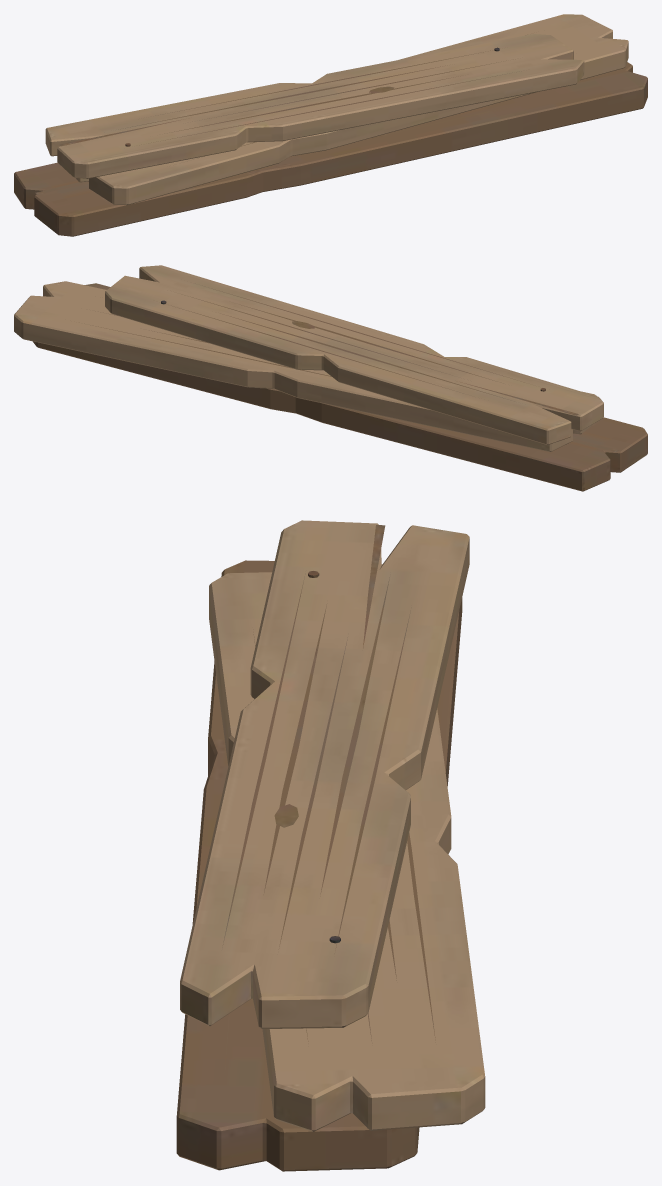
Rendered from D18_wooden_planks_v3.glb.
The picture shows the model from 3 angles, top to bottom: view 1: azimuth 30°, elevation 25°; view 2: azimuth 150°, elevation 25°; view 3: azimuth 270°, elevation 25°; orthographic projection. The views are drawn at different scales.
Parts seen in each view (by area): view 1: Bottom heavy board; view 2: Bottom heavy board; view 3: Bottom heavy board.
Boxes of the visible parts, x1,y1,x2,y2 form: Bottom heavy board: (14,14,647,236); Bottom heavy board: (14,265,647,491); Bottom heavy board: (176,520,485,1171).
Bounding box in the file's own units: 1.5 × 0.1397 × 0.3409.
Materials: 4 (4 with a texture image).
